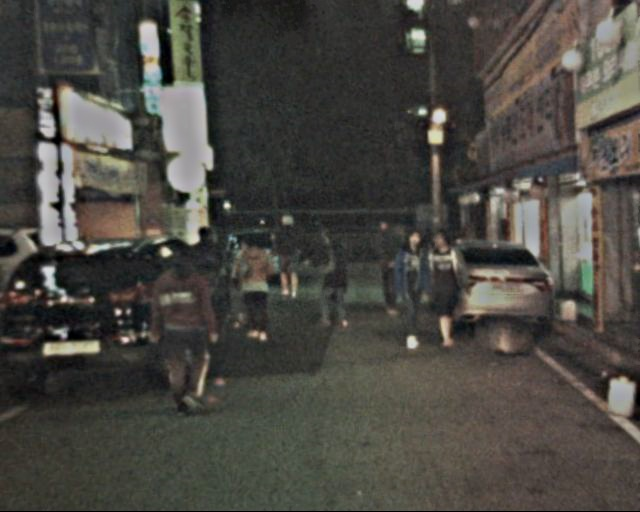person: (151, 248, 219, 410), (420, 224, 469, 343), (390, 234, 438, 350), (182, 230, 232, 335), (232, 234, 276, 342), (368, 217, 408, 316), (314, 232, 352, 325), (269, 210, 306, 302)
